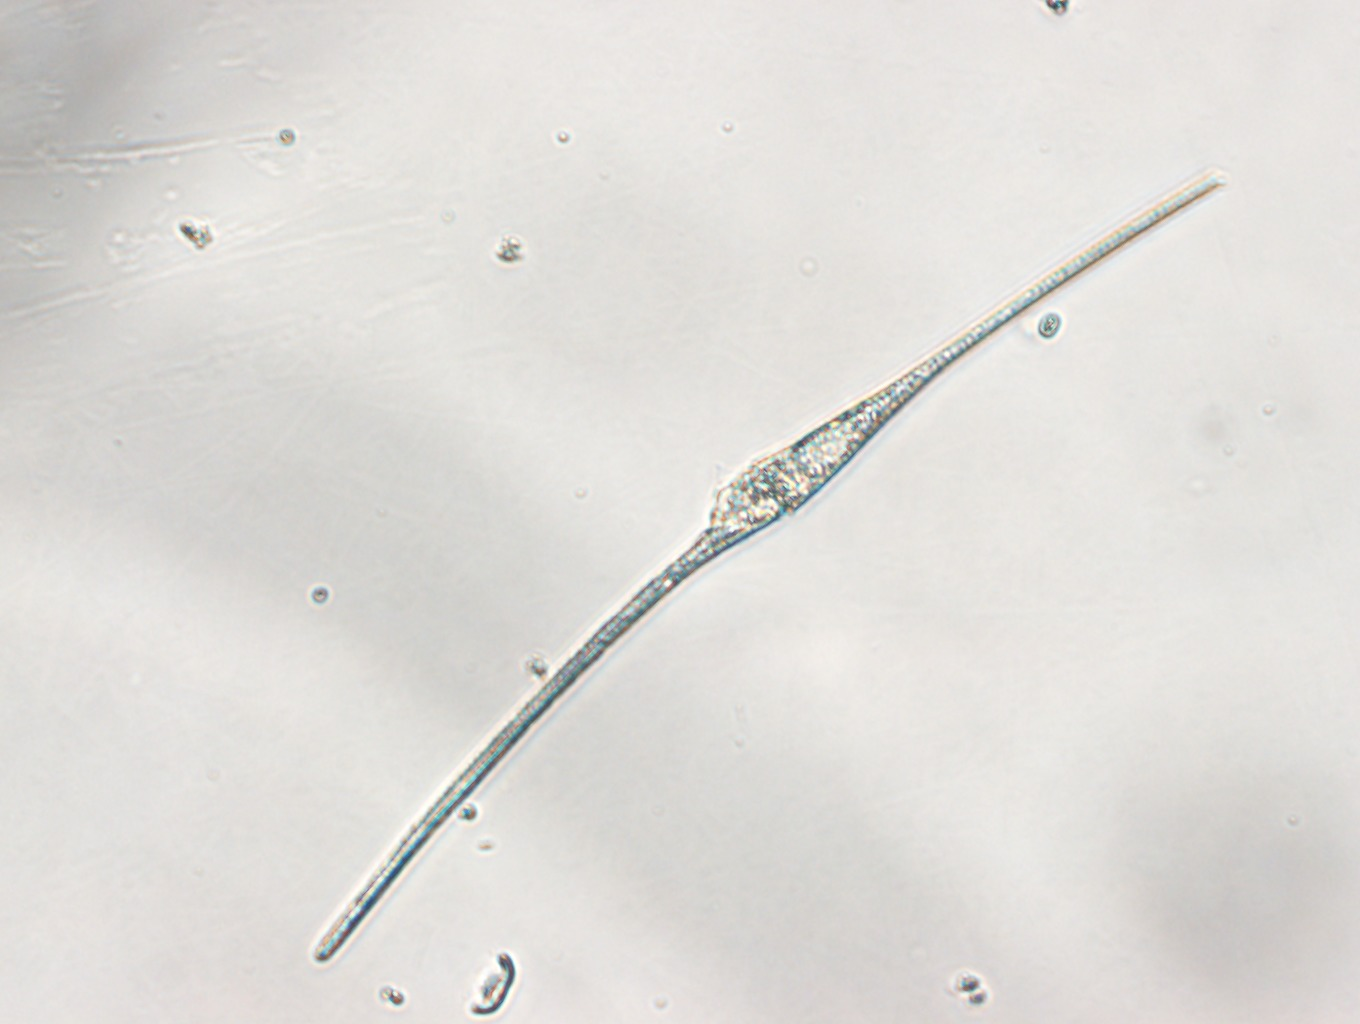ceratium fusus: (305, 163, 1236, 969)
